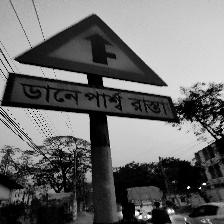Side-road-right: (4, 12, 175, 123)
